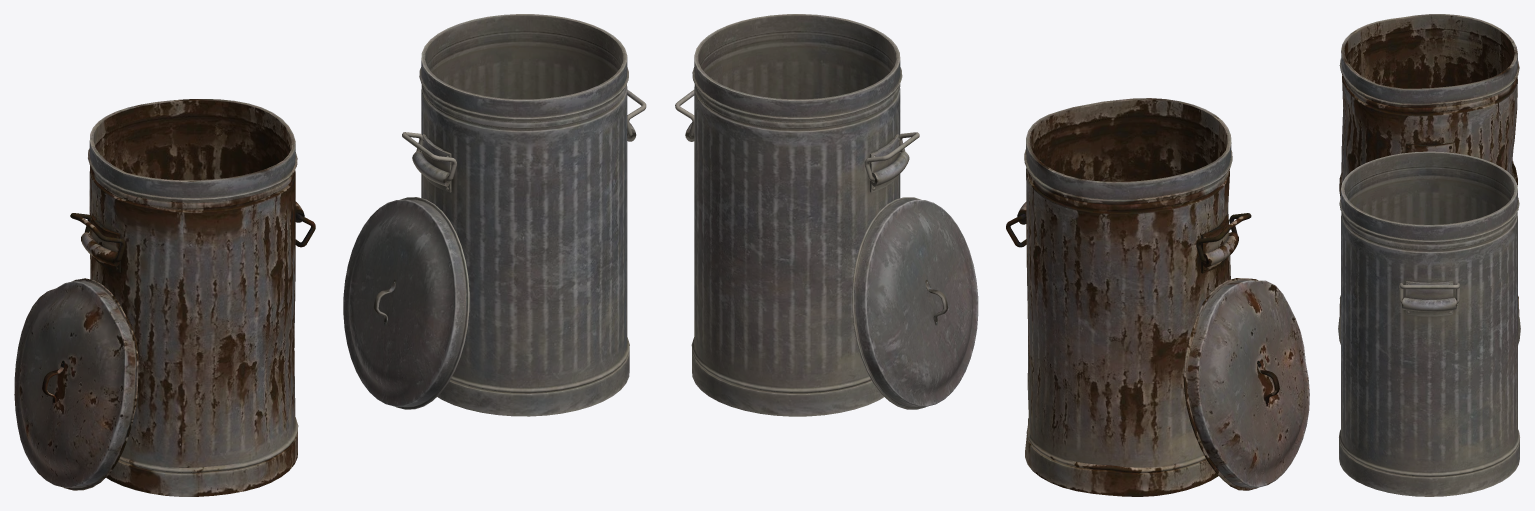
The model's file is metal_trash_can.glb.
3 renders of one model, left to right at view 1: azimuth 30°, elevation 25°; view 2: azimuth 150°, elevation 25°; view 3: azimuth 270°, elevation 25°, orthographic. The views are drawn at different scales.
Size of the model in its own units: 1.78 by 0.9062 by 0.5563.
Materials: 2 (2 with a texture image).
